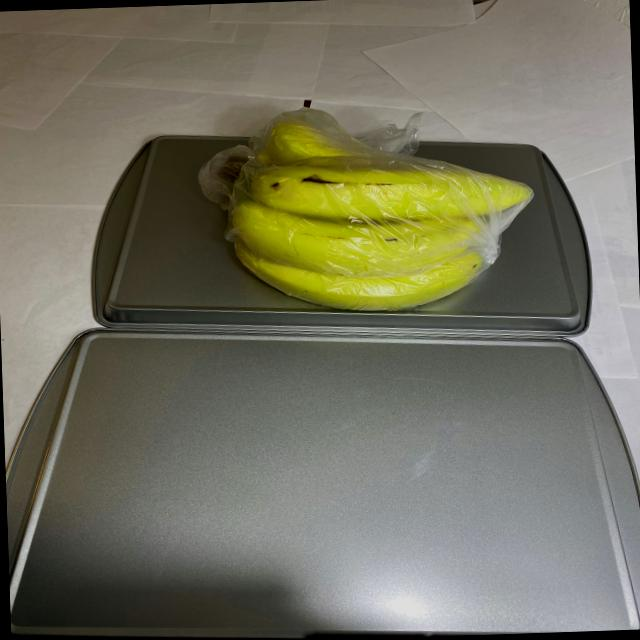banana: (217, 84, 543, 317)
